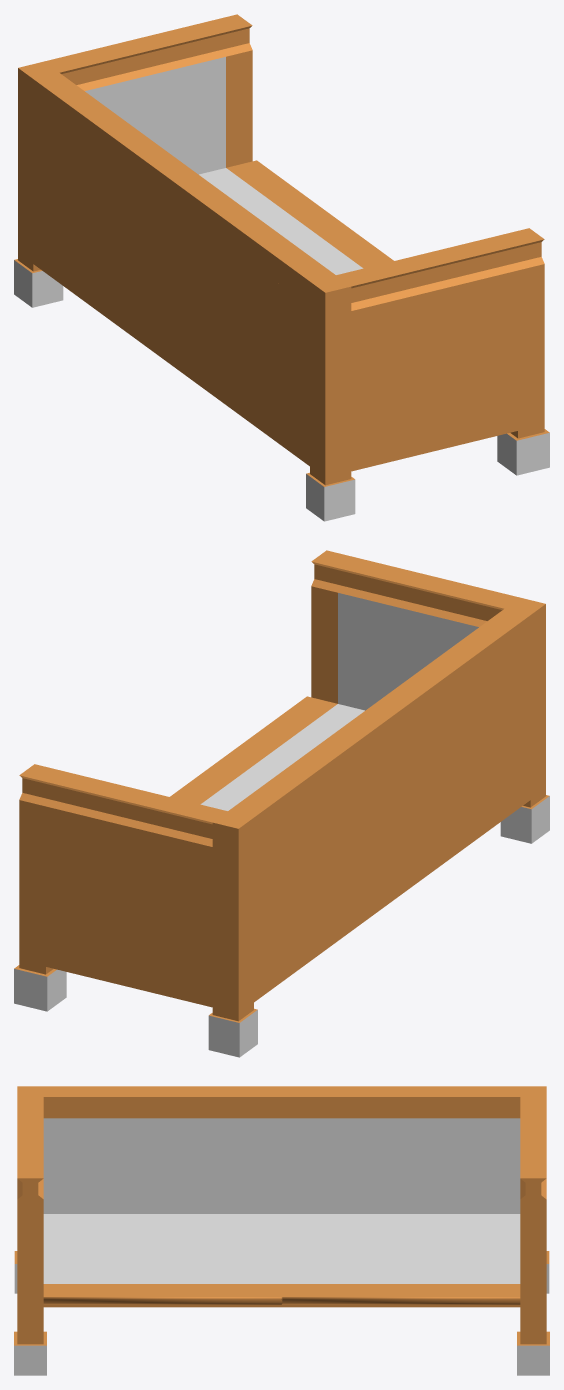
Rendered from WoodenBench.fbx.
3 views of the same model, one above another, from view 1: azimuth 30°, elevation 25°; view 2: azimuth 150°, elevation 25°; view 3: azimuth 270°, elevation 25° (orthographic). The views are drawn at different scales.
Parts seen in each view (by area): view 1: Cube; view 2: Cube; view 3: Cube.
Boxes of the visible parts, <box> form: Cube: <box>14,14,549,521</box>; Cube: <box>14,550,549,1057</box>; Cube: <box>14,1086,549,1375</box>.
Bounding box in the file's own units: 1357 × 1305 × 3236.
